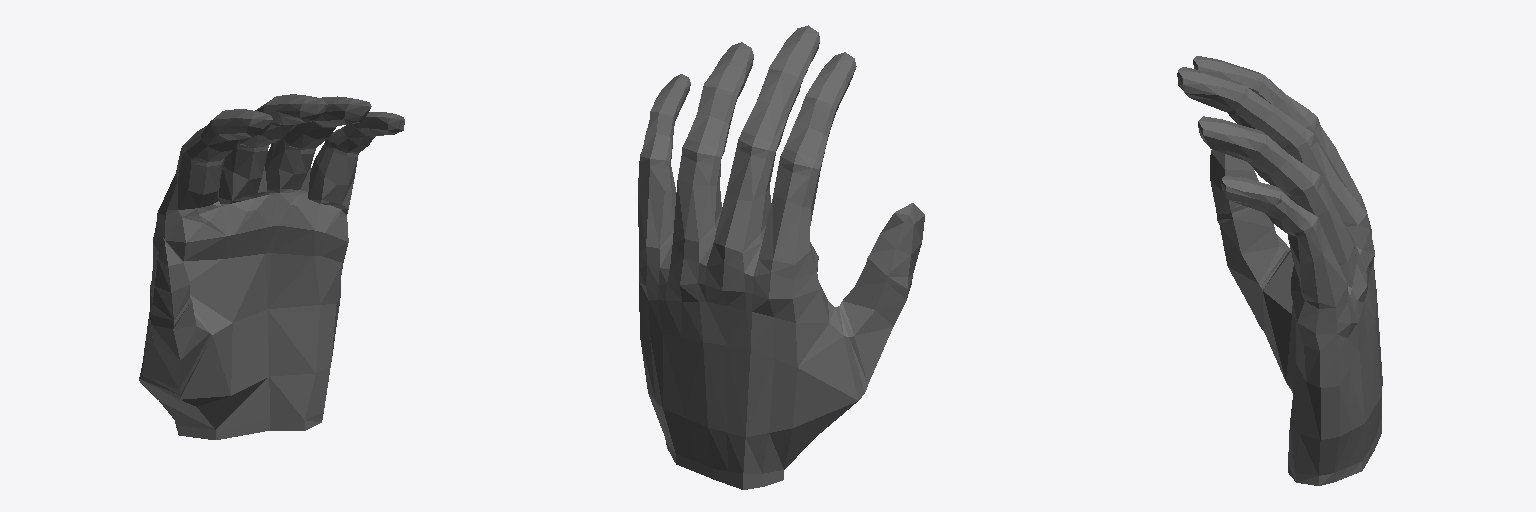
The model's file is hand.obj.
3 renders of one model, left to right at view 1: azimuth 30°, elevation 25°; view 2: azimuth 150°, elevation 25°; view 3: azimuth 270°, elevation 25°, orthographic.
Visible parts, largest first — view 1: Box001; view 2: Box001; view 3: Box001.
Part boxes in pixels (x1,y1,x2,y2): Box001: (139,94,404,439); Box001: (638,25,924,489); Box001: (1177,56,1382,485).
Bounding box in the file's own units: 80.06 × 118 × 57.72.